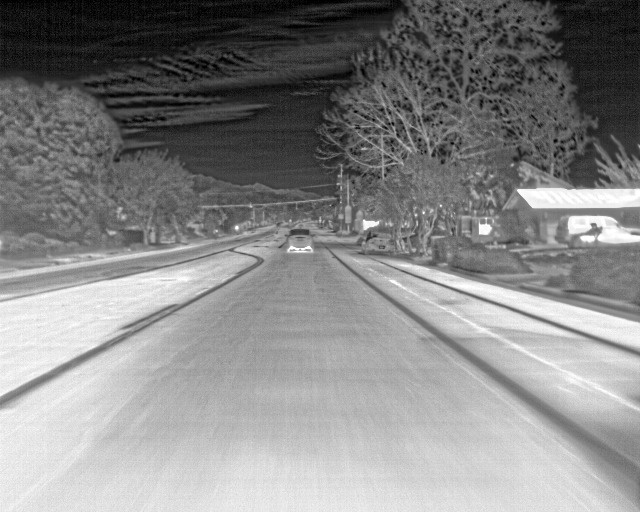vehicle: (287, 227, 312, 253)
